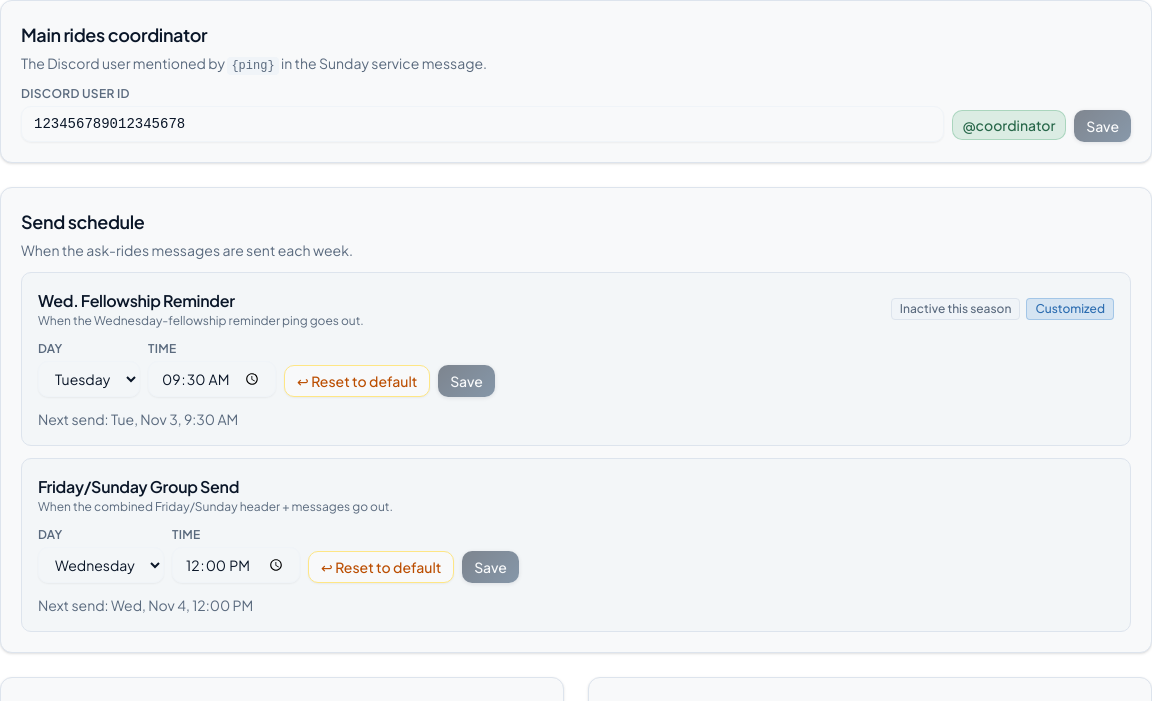
it: MessageTemplatesEditor › resets a customized schedule back to default after confirming
This screenshot has width=1152, height=701.
Check: the text "Customized" is shown, box [1026,298,1114,320]
What coordinates should you click on to do the following:
click the button "↩ Reset to default" below "Wed. Fellowship Reminder"
I would click on:
 (357, 381)
Its box is [284,365,430,397].
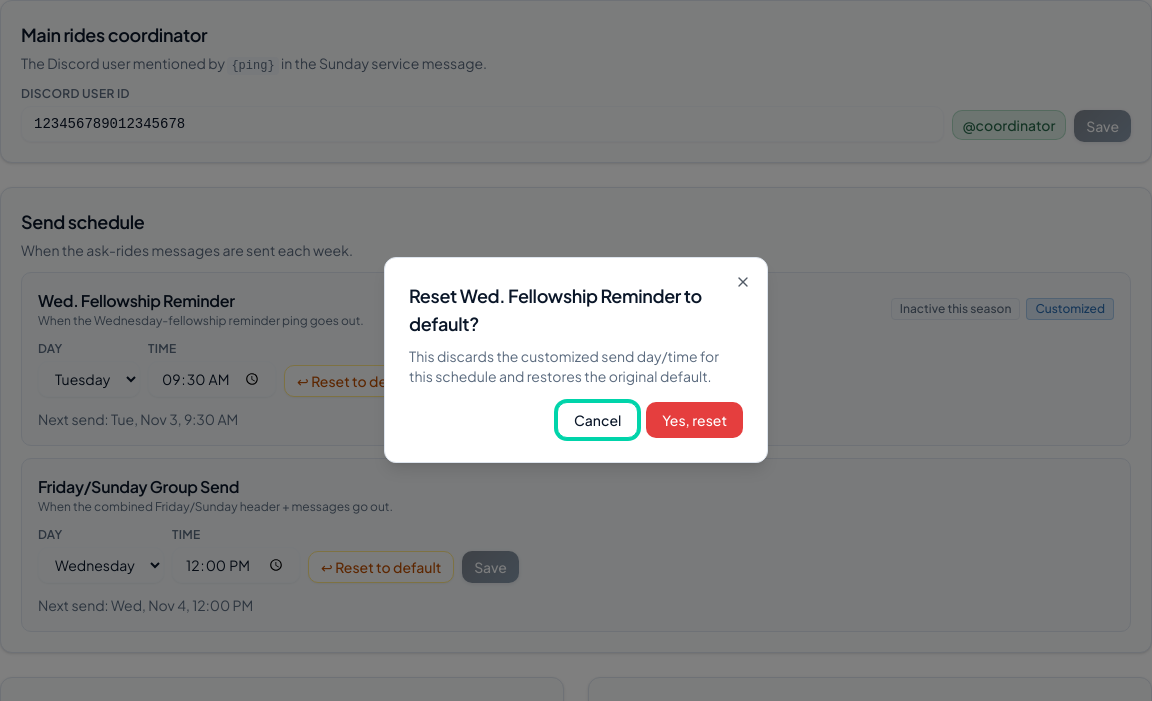
What coordinates should you click on to do the following:
click the button "Yes, reset"
I would click on:
 (695, 420)
Its box is [646,402,743,438].
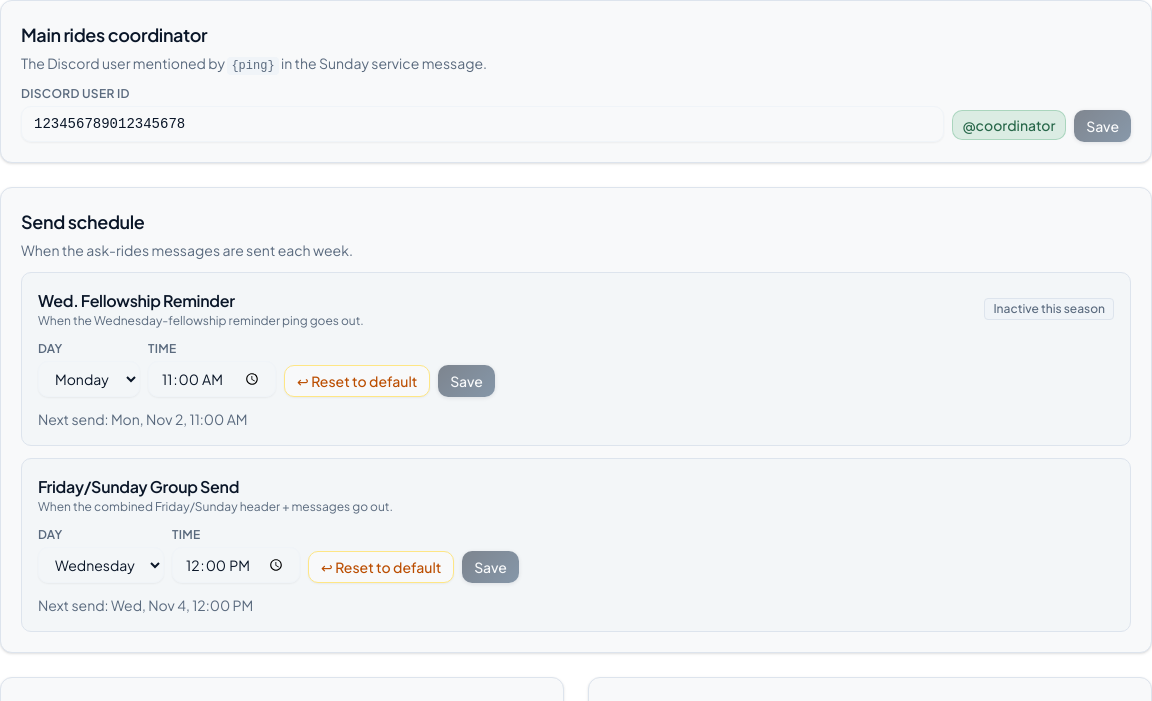
Check: the text "Customized" is gone
Check: the dropdown labelled "Day" below "Wed. Fellowship Reminder" shows "Monday", box [38,361,140,397]
Check: the time field labelled "Time" below "Wed. Fellowship Reminder" holds "11:00", box [148,361,276,397]
